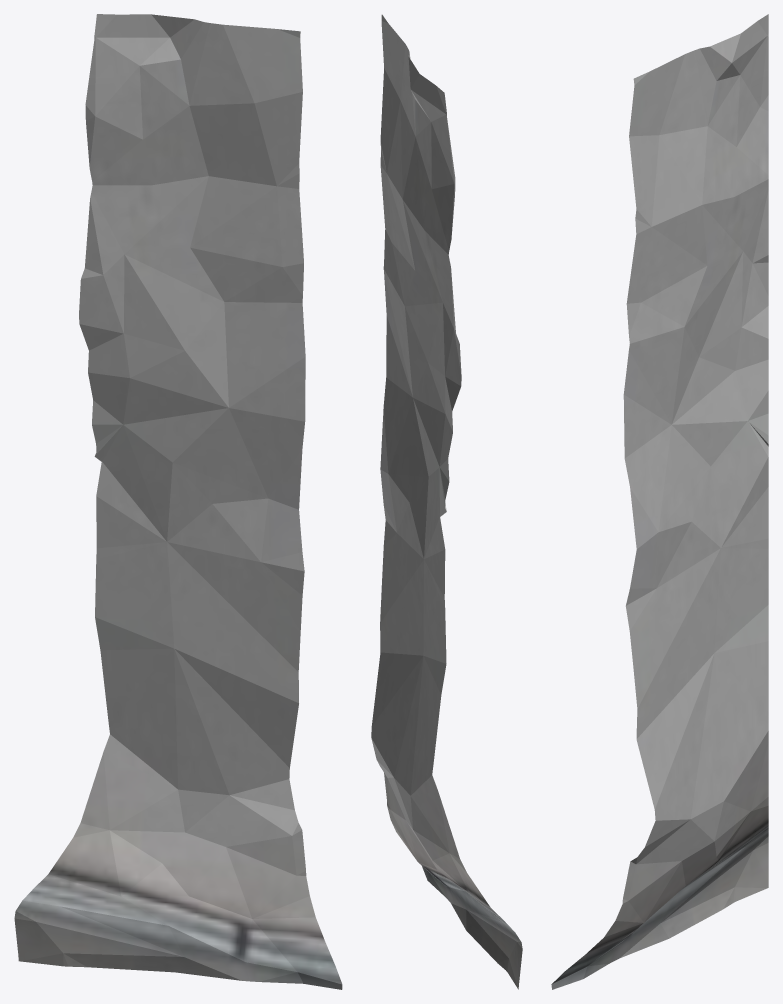
3 renders of one model, left to right at view 1: azimuth 30°, elevation 25°; view 2: azimuth 150°, elevation 25°; view 3: azimuth 270°, elevation 25°, orthographic. The views are drawn at different scales.
Bounding box in the file's own units: 0.2052 × 0.8374 × 0.1808.
Materials: 1 (1 with a texture image).
